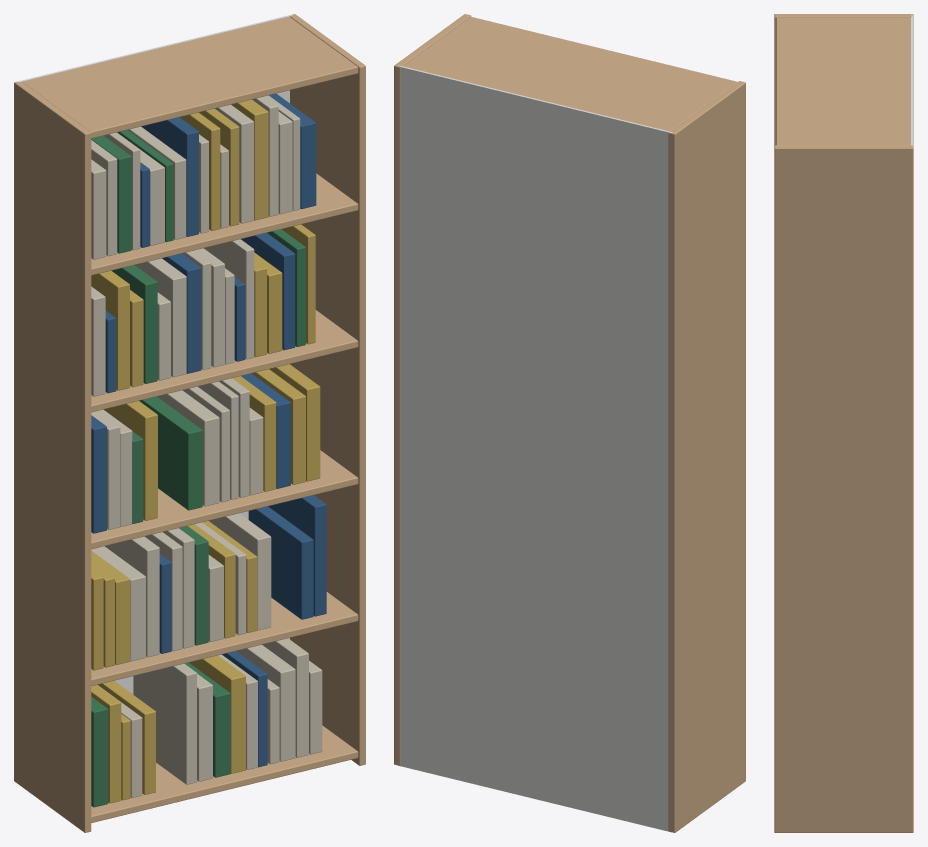
Rendered from regal.glb.
3 views of the same model, side by side, from view 1: azimuth 30°, elevation 25°; view 2: azimuth 150°, elevation 25°; view 3: azimuth 270°, elevation 25° (orthographic). The views are drawn at different scales.
Visible parts, largest first — view 1: Seite-1, Seite1, Boden5, Buch.005, Boden2, Boden0, Boden1, Boden3, Boden4, Buch.029, Buch.036, Buch.030 (+80 smaller); view 2: Rückwand, Seite-1, Boden5, Seite1; view 3: Seite1, Boden5, Seite-1, Rückwand.
Part boxes in pixels (<box>): Seite-1: <box>14,81,91,832</box>; Seite1: <box>290,14,365,765</box>; Boden5: <box>22,16,358,138</box>; Buch.005: <box>133,663,196,784</box>; Boden2: <box>91,450,358,549</box>; Boden0: <box>91,725,358,822</box>; Boden1: <box>91,592,358,686</box>; Boden3: <box>91,310,358,412</box>; Boden4: <box>91,173,358,275</box>; Buch.029: <box>248,506,313,619</box>; Buch.036: <box>139,396,202,510</box>; Buch.030: <box>268,495,326,616</box>; Rückwand: <box>398,65,672,831</box>; Seite-1: <box>668,81,745,832</box>; Boden5: <box>403,16,737,131</box>; Seite1: <box>394,14,471,765</box>; Seite1: <box>774,145,913,832</box>; Boden5: <box>776,17,910,145</box>; Seite-1: <box>774,14,913,145</box>; Rückwand: <box>911,15,913,146</box>.
Size of the model in its own units: 0.8 by 1.9 by 0.35.
